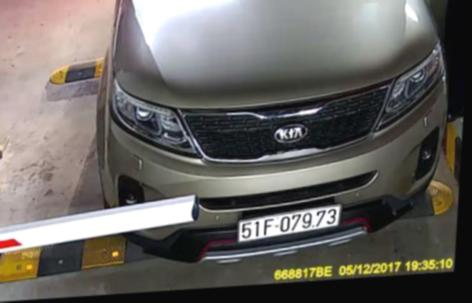License_Plate: (234, 199, 346, 243)
